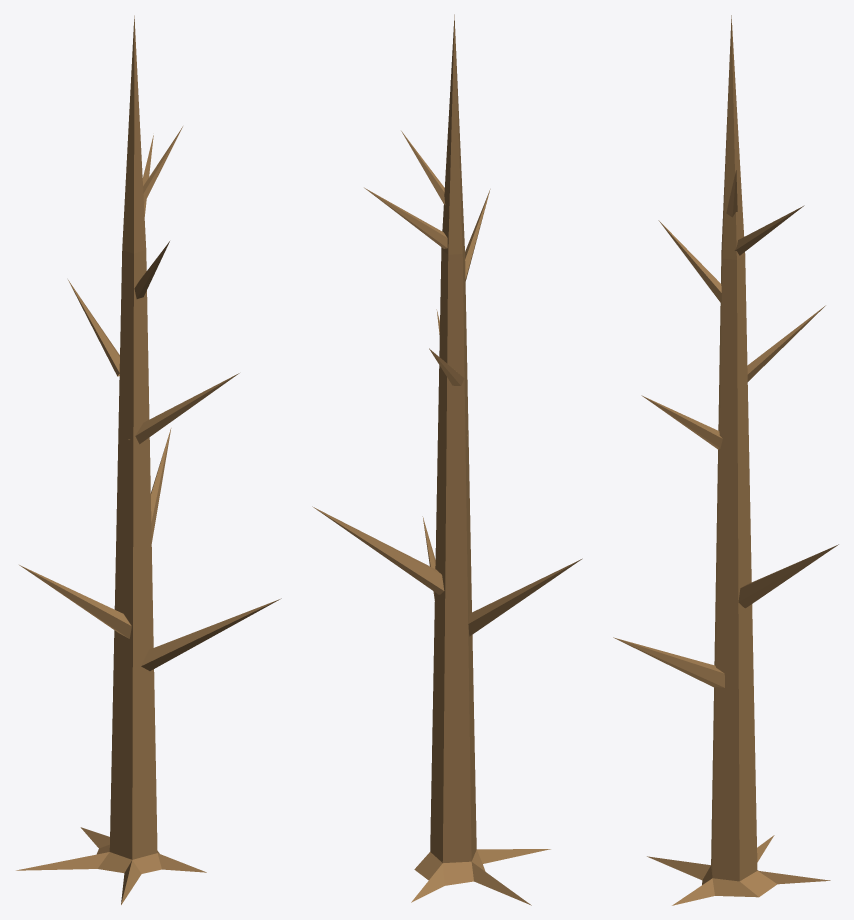
Rendered from tree_05.fbx.
3 renders of one model, left to right at view 1: azimuth 30°, elevation 25°; view 2: azimuth 150°, elevation 25°; view 3: azimuth 270°, elevation 25°, orthographic. The views are drawn at different scales.
Parts seen in each view (by area): view 1: tree_05; view 2: tree_05; view 3: tree_05.
Part boxes in pixels (x1,y1,x2,y2): tree_05: [16, 15, 281, 904]; tree_05: [312, 14, 582, 905]; tree_05: [613, 15, 838, 905].
Size of the model in its own units: 207 by 788 by 187.
